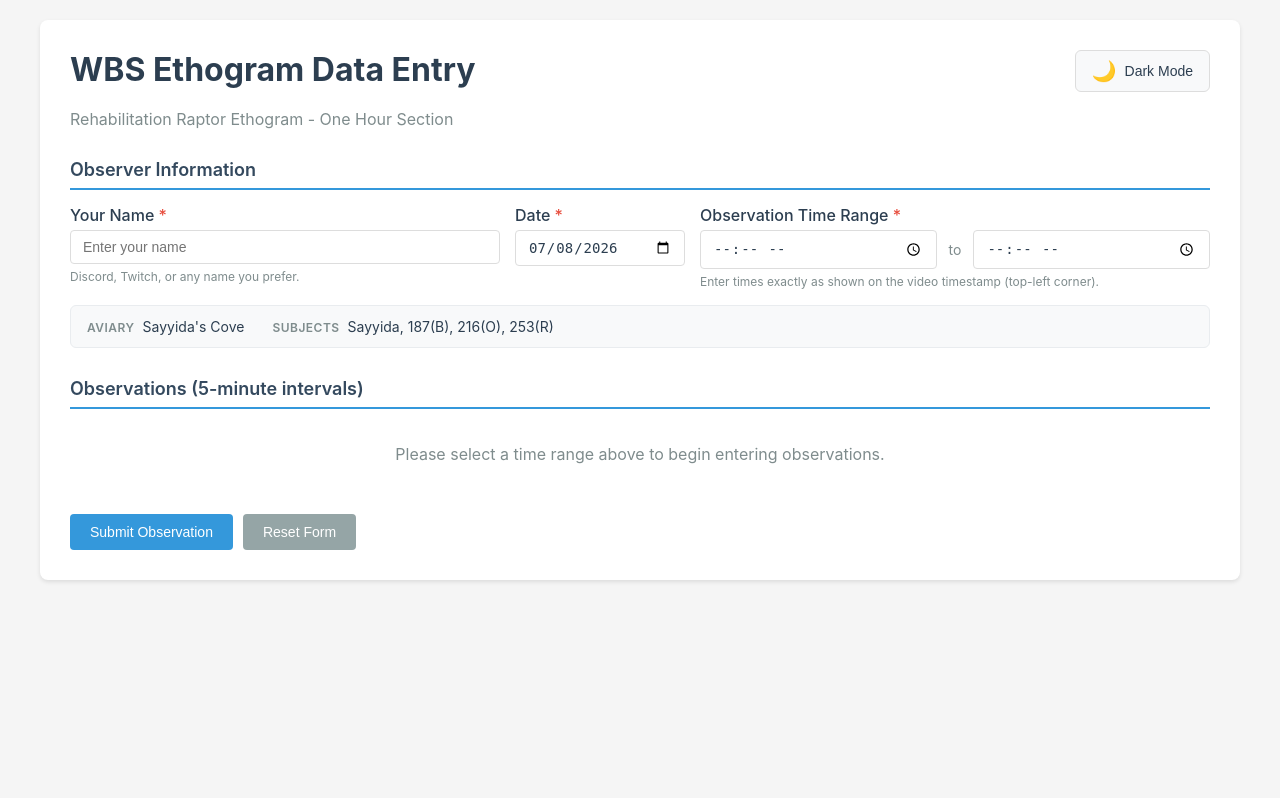
Scenario: Copy to Next with Validation Integration › prevents copy when required description is missing
Type "10:00" into the 1st time field.
click(818, 249); type("10:00")  # box [700,230,937,269]
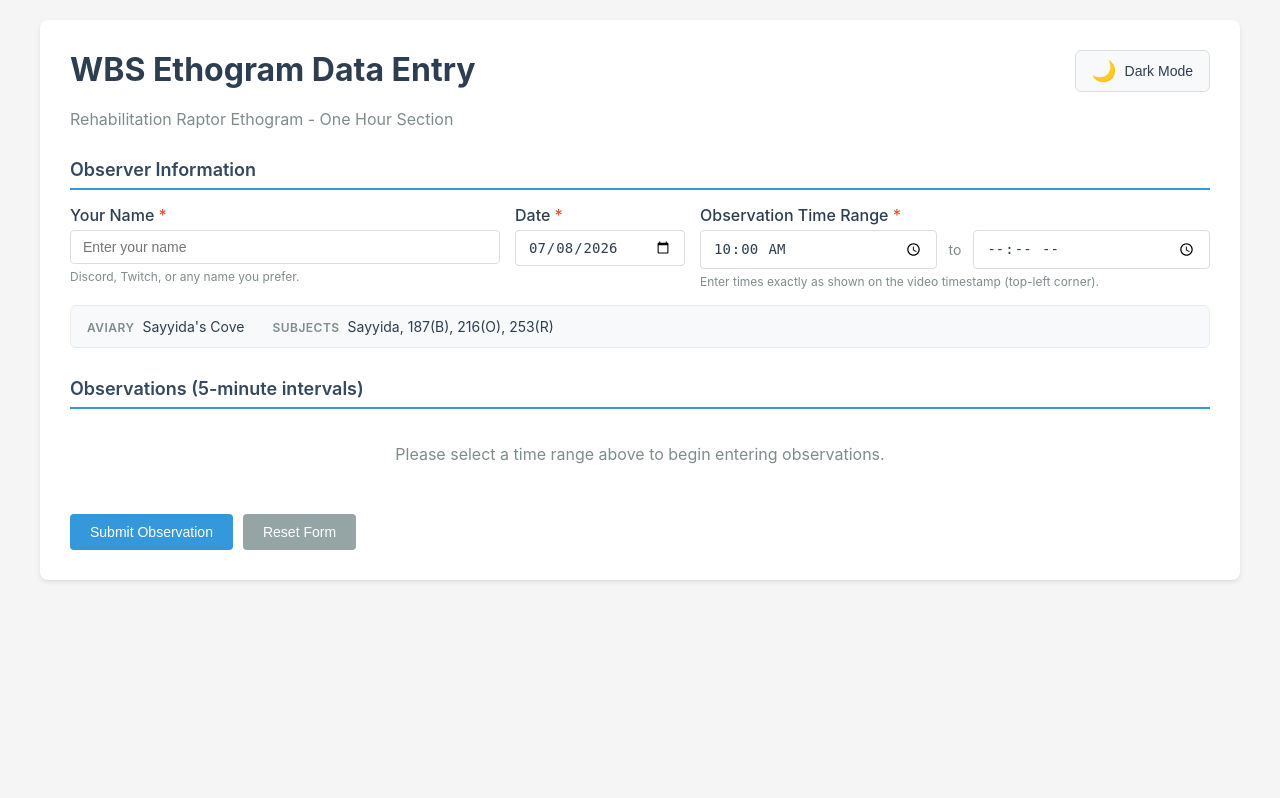
Type "10:10" into the 2nd time field.
click(1092, 249); type("10:10")  # box [973,230,1210,269]
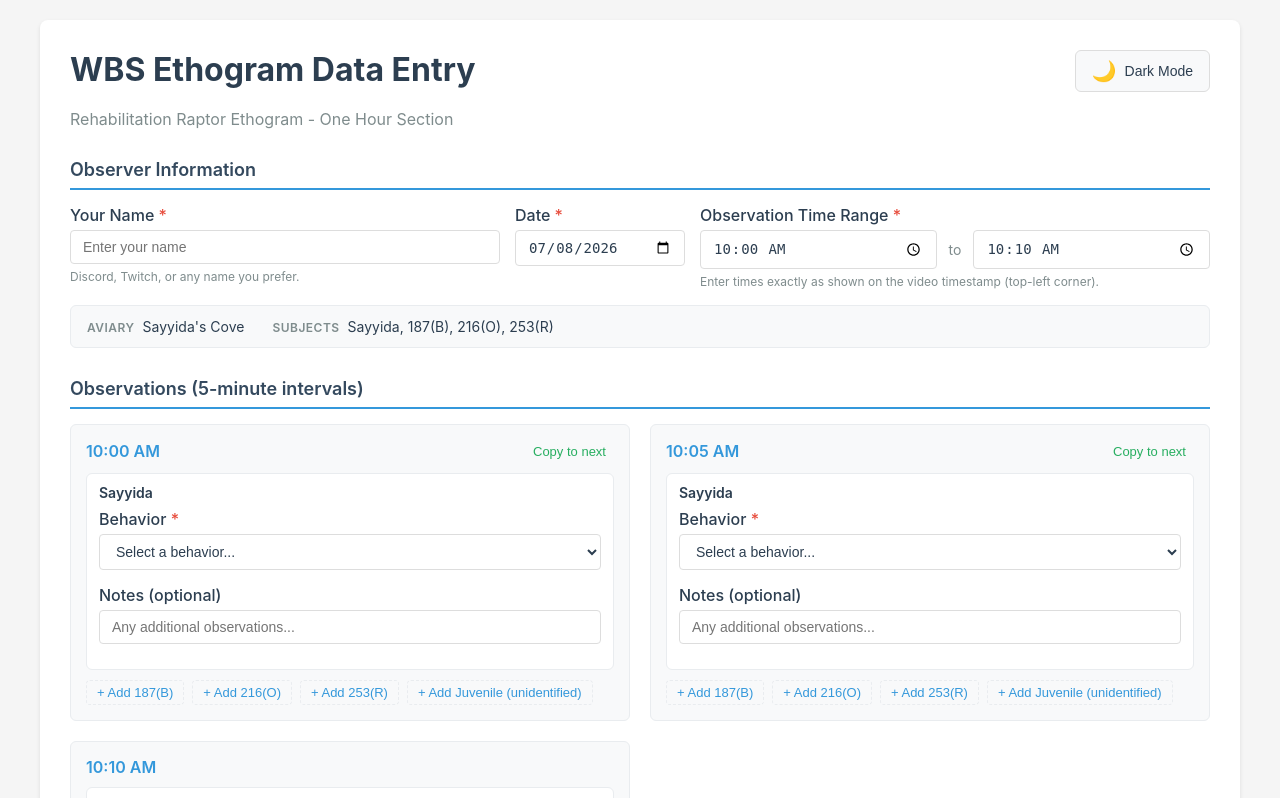
Now the text "10:00 AM" is shown, box [86,441,160,461]
Select "Other" in the dropdown below "10:00 AM" at (350,552), box [99,534,601,570]
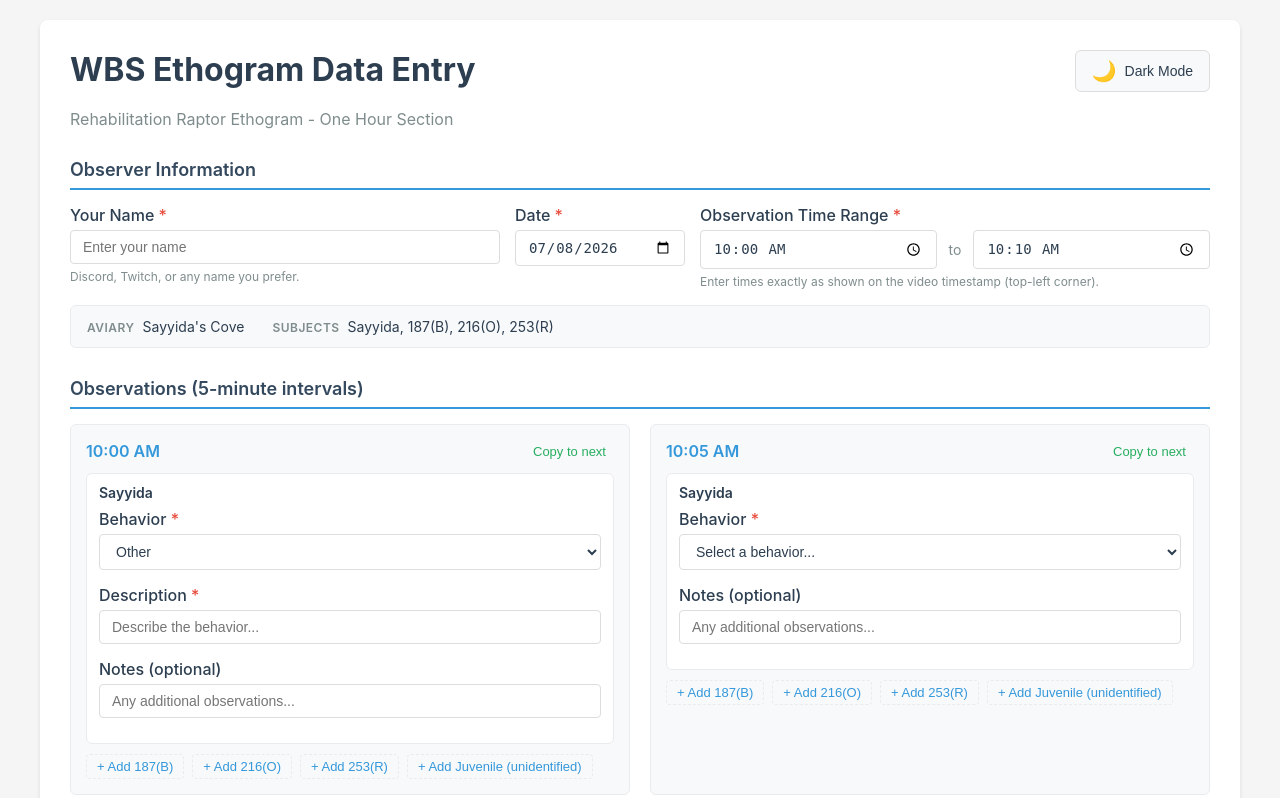
Click the button "Copy to next" in the row of "10:00 AM".
click(570, 451)  # box [525,440,614,463]
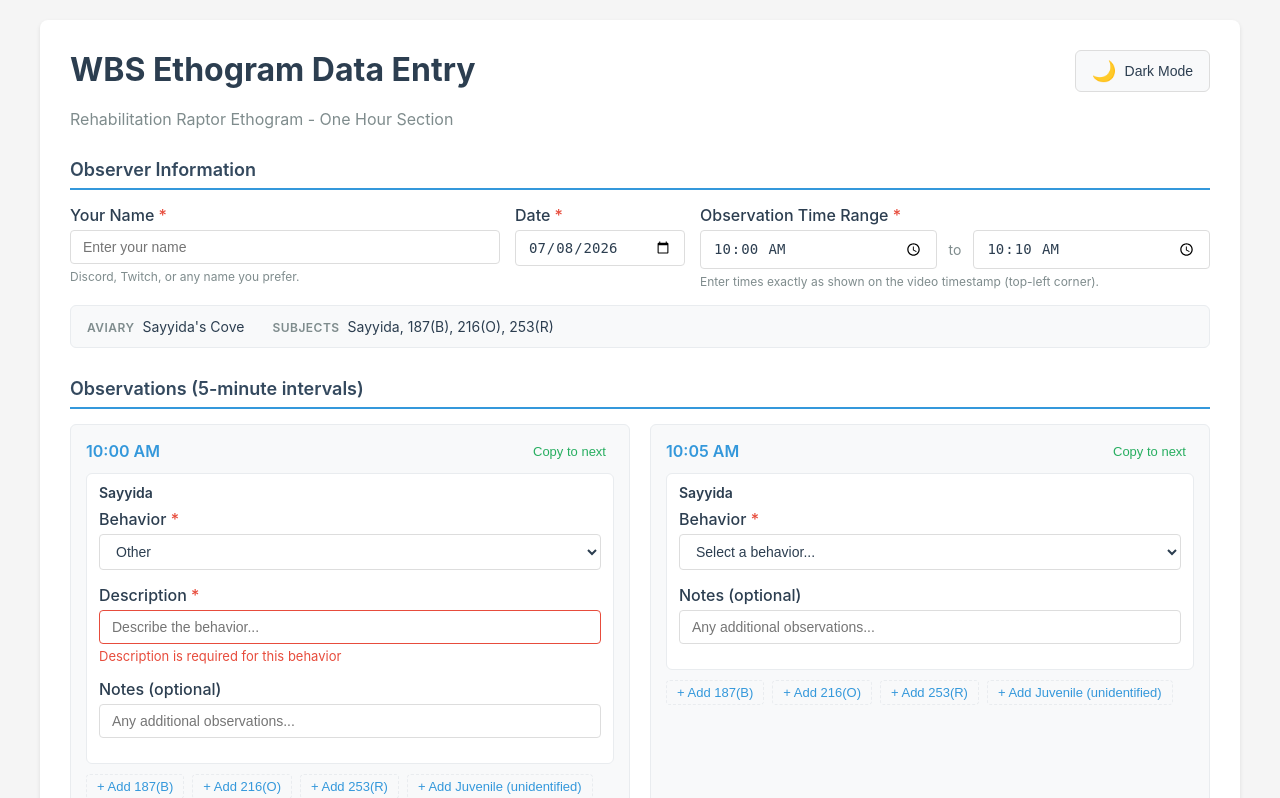
Now the dropdown below "10:05 AM" shows "Select a behavior...", box [679,534,1181,570]
Now the text "Description is required for this behavior" is shown, box [99,648,341,664]
